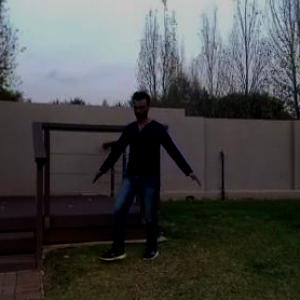land: (93, 94, 201, 279)
